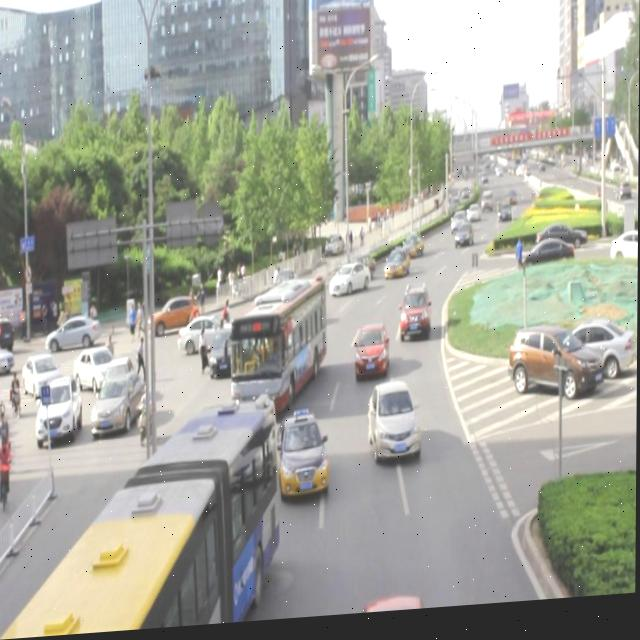car: (369, 383, 422, 468), (277, 417, 329, 502), (179, 315, 236, 358), (354, 327, 390, 385), (277, 292, 314, 344), (400, 290, 433, 348), (208, 331, 242, 383), (252, 318, 292, 362), (329, 267, 371, 301), (245, 299, 276, 343), (345, 257, 377, 287), (383, 253, 411, 287), (400, 236, 424, 264)
van: (0, 408, 278, 640), (232, 281, 327, 414)
